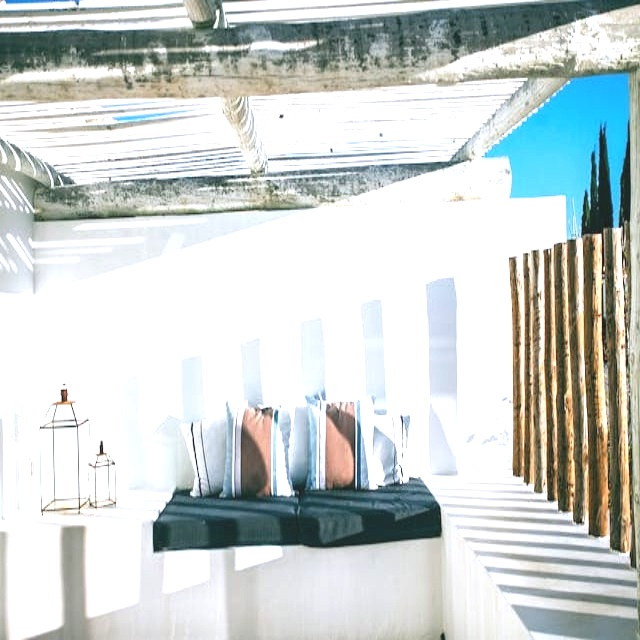foam_scum: (0, 0, 640, 640), (13, 13, 627, 627), (0, 0, 201, 32)
turbid_water: (0, 0, 640, 640)
